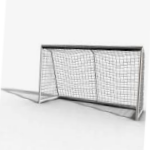goals: (38, 44, 145, 118)
